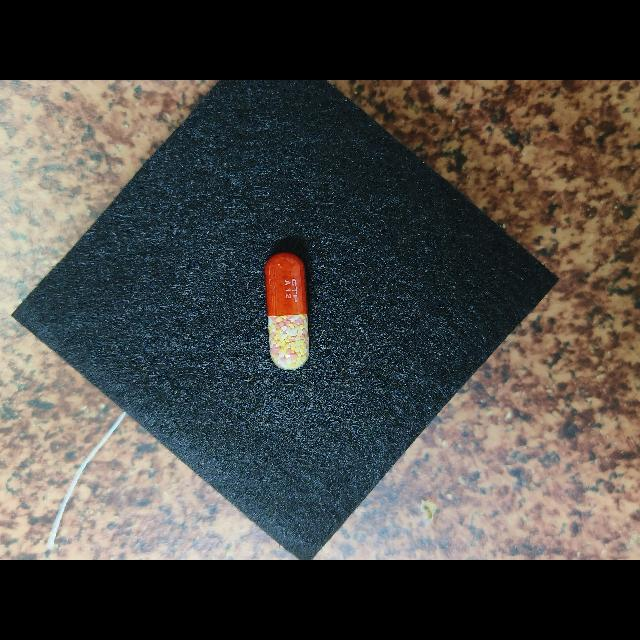Intact Capsule: (264, 252, 309, 370)
